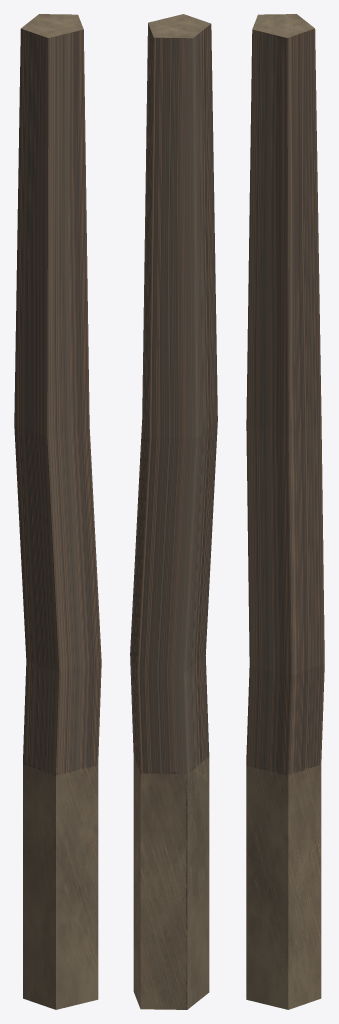
File: crooked_wooken_pole.obj
The picture shows the model from 3 angles, left to right: view 1: azimuth 30°, elevation 25°; view 2: azimuth 210°, elevation 25°; view 3: azimuth 330°, elevation 25°; orthographic projection.
Parts seen in each view (by area): view 1: Cylinder.002; view 2: Cylinder.002; view 3: Cylinder.002.
Part boxes in pixels (<box>): Cylinder.002: <box>14,14,101,1009</box>; Cylinder.002: <box>130,14,217,1009</box>; Cylinder.002: <box>246,14,324,1009</box>.
Bounding box in the file's own units: 0.5763 × 7 × 0.4831.
Materials: 1 (1 with a texture image).
